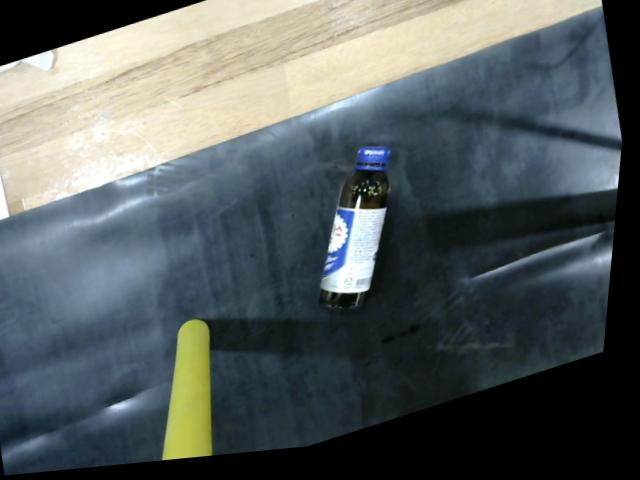glass: (321, 150, 406, 324)
